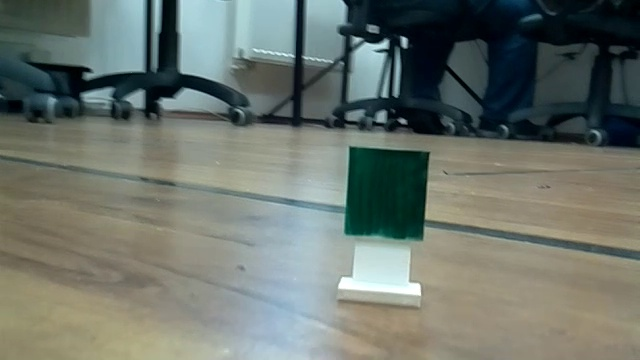rect: (332, 138, 443, 322)
